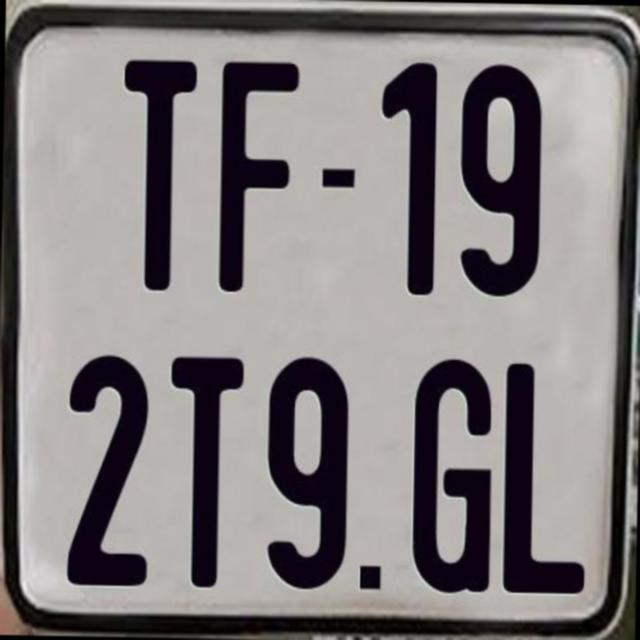1: (377, 59, 439, 301)
2: (62, 350, 152, 582)
9: (264, 353, 354, 588), (454, 58, 540, 302)
F: (214, 61, 303, 296)
G: (410, 354, 497, 598)
L: (502, 363, 596, 594)
T: (118, 54, 198, 294), (167, 352, 249, 584)
